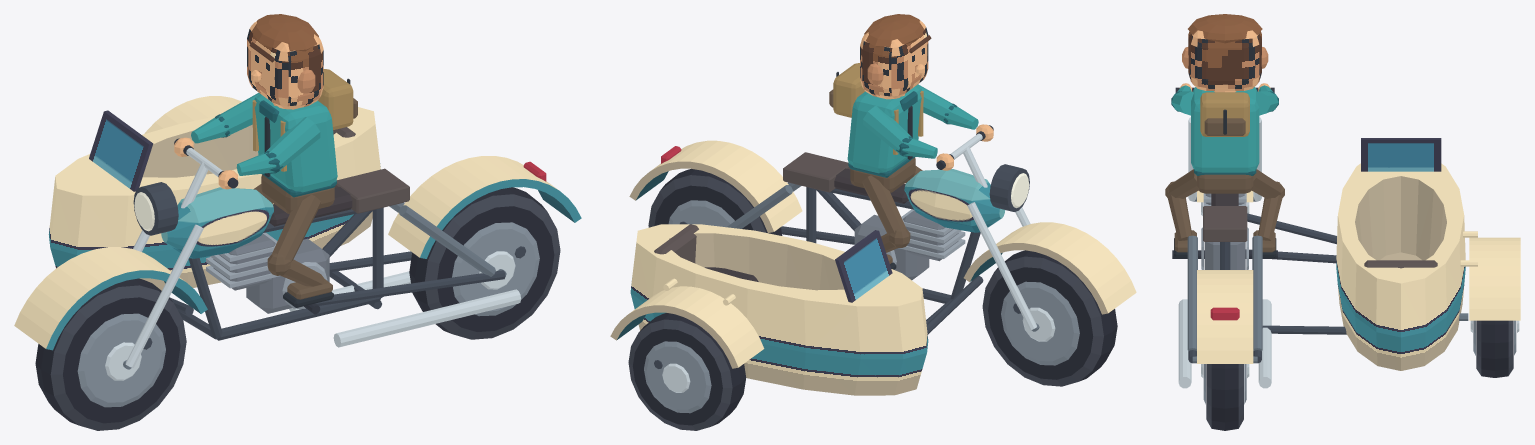
3 views of the same model, side by side, from view 1: azimuth 30°, elevation 25°; view 2: azimuth 150°, elevation 25°; view 3: azimuth 270°, elevation 25° (orthographic). The views are drawn at different scales.
Parts seen in each view (by area): view 1: Body_static, RiderExplorer:Explorer_static_seated, Wheel_F_tire_hub, Wheel_R_tire_hub; view 2: Body_static, RiderExplorer:Explorer_static_seated, Wheel_F_tire_hub, Wheel_SC_tire_hub, Wheel_R_tire_hub; view 3: Body_static, RiderExplorer:Explorer_static_seated, Wheel_R_tire_hub, Wheel_SC_tire_hub.
Boxes of the visible parts, x1,y1,x2,y2 form: Body_static: [14, 96, 581, 369]; RiderExplorer:Explorer_static_seated: [174, 14, 357, 307]; Wheel_F_tire_hub: [35, 278, 186, 430]; Wheel_R_tire_hub: [409, 187, 560, 339]; Body_static: [610, 125, 1136, 395]; RiderExplorer:Explorer_static_seated: [829, 14, 993, 269]; Wheel_F_tire_hub: [982, 250, 1117, 386]; Wheel_SC_tire_hub: [628, 313, 746, 430]; Wheel_R_tire_hub: [648, 169, 782, 235]; Body_static: [1172, 87, 1520, 388]; RiderExplorer:Explorer_static_seated: [1165, 14, 1284, 258]; Wheel_R_tire_hub: [1201, 364, 1249, 430]; Wheel_SC_tire_hub: [1470, 320, 1519, 377].
Bounding box in the file's own units: 55.84 × 35.91 × 36.17.
2 materials, 2 textured.
